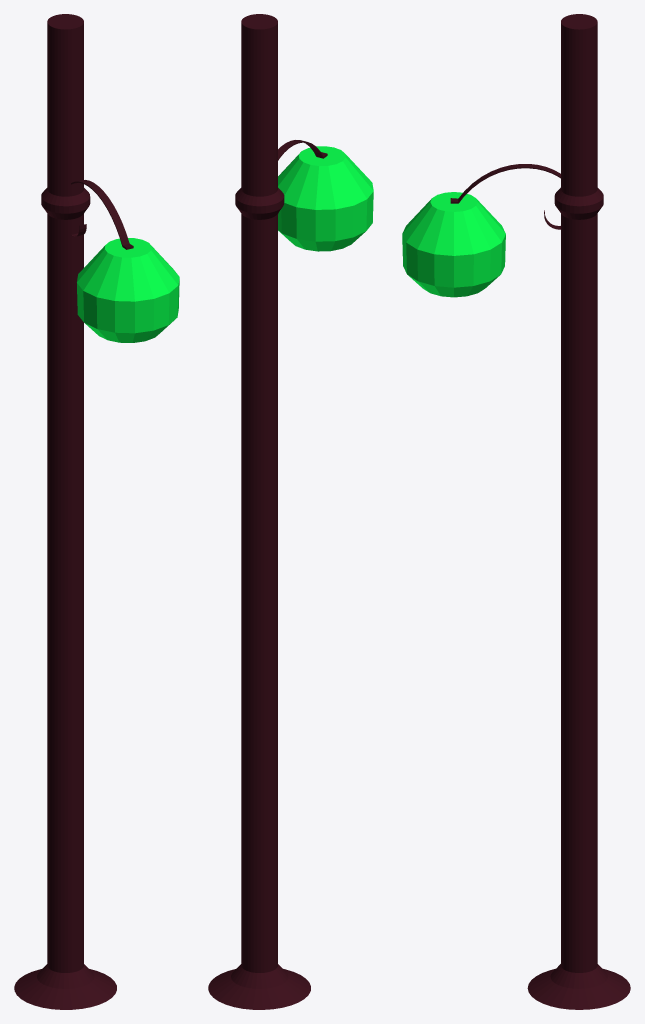
Rendered from lantern.glb.
3 renders of one model, left to right at view 1: azimuth 30°, elevation 25°; view 2: azimuth 150°, elevation 25°; view 3: azimuth 270°, elevation 25°, orthographic.
Visible parts, largest first — view 1: lanttern, hook; view 2: lanttern, hook; view 3: lanttern, hook.
Part boxes in pixels (x1,y1,x2,y2): lanttern: (14,14,116,1009); hook: (71,180,179,342); lanttern: (208,14,310,1009); hook: (278,140,373,251); lanttern: (527,14,630,1009); hook: (402,164,561,297).
Bounding box in the file's own units: 0.8787 × 9.03 × 1.94.
